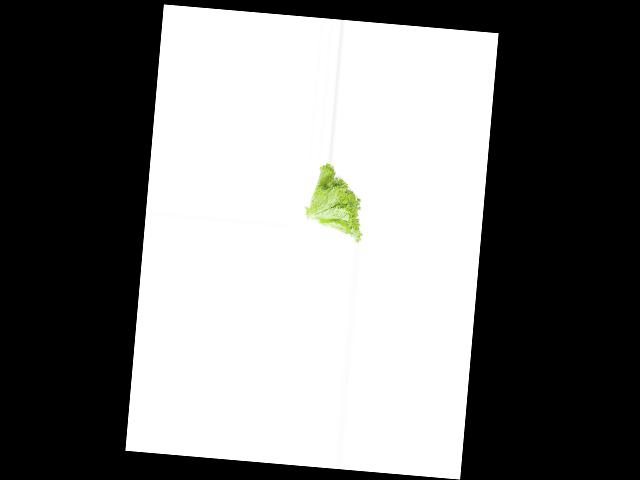lettuce: (303, 161, 369, 244)
